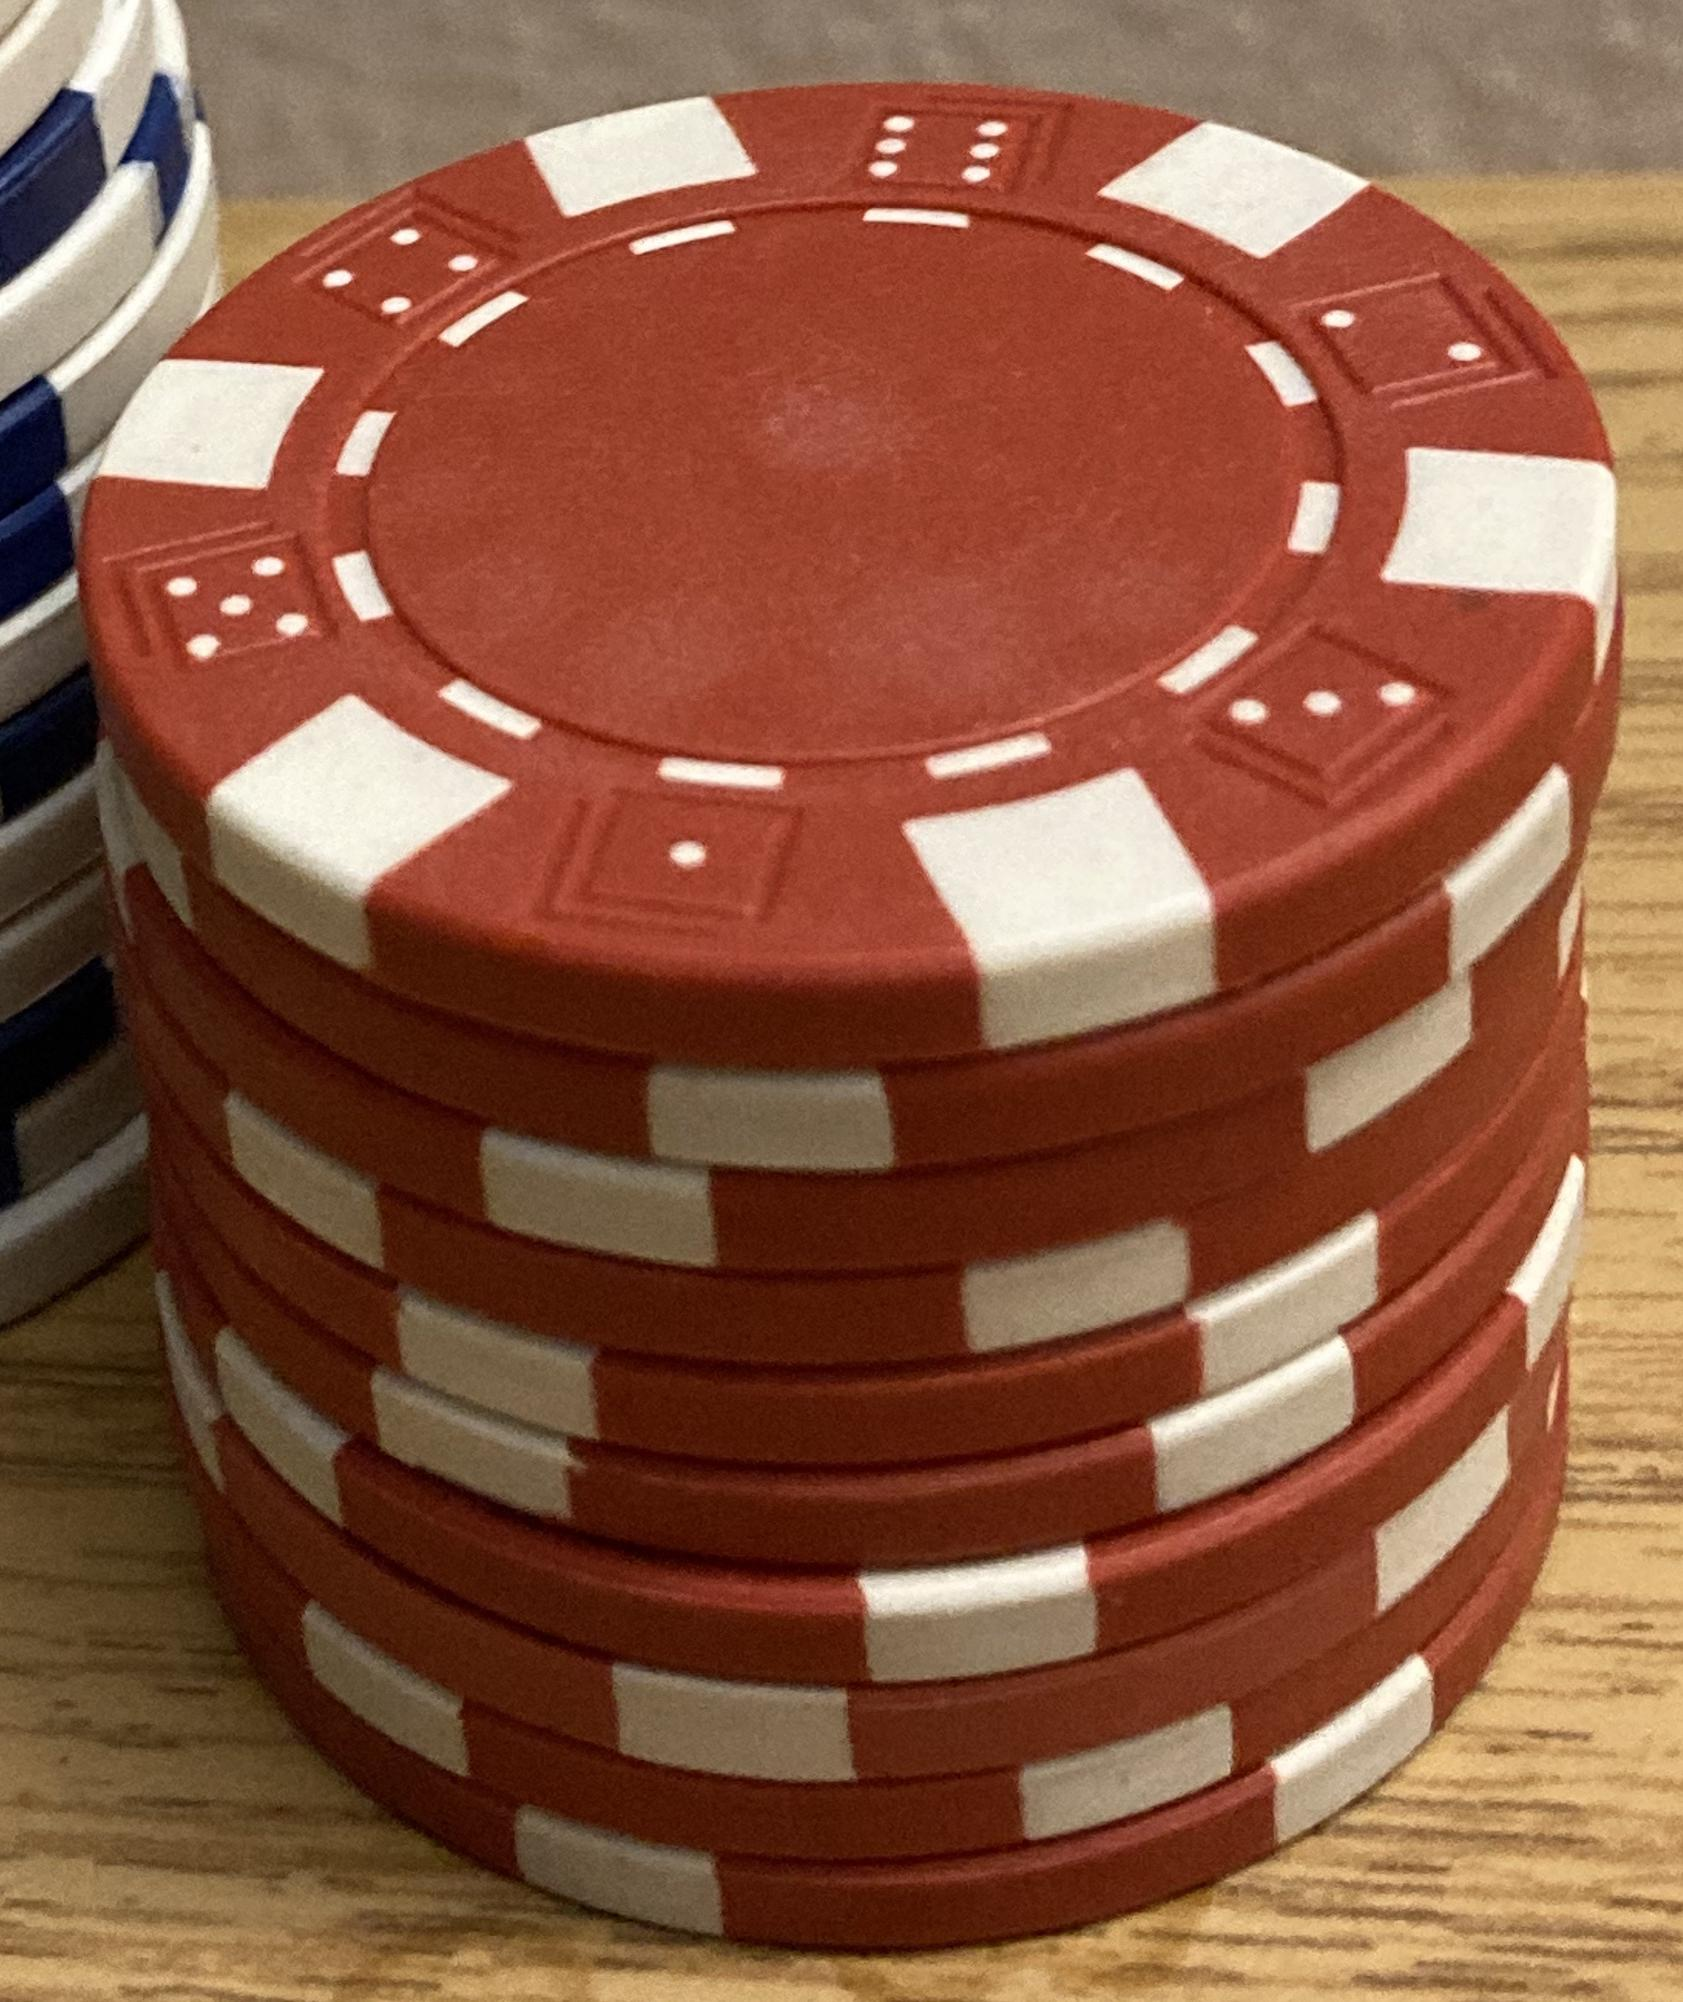Chip: (2, 2, 1683, 2002)
